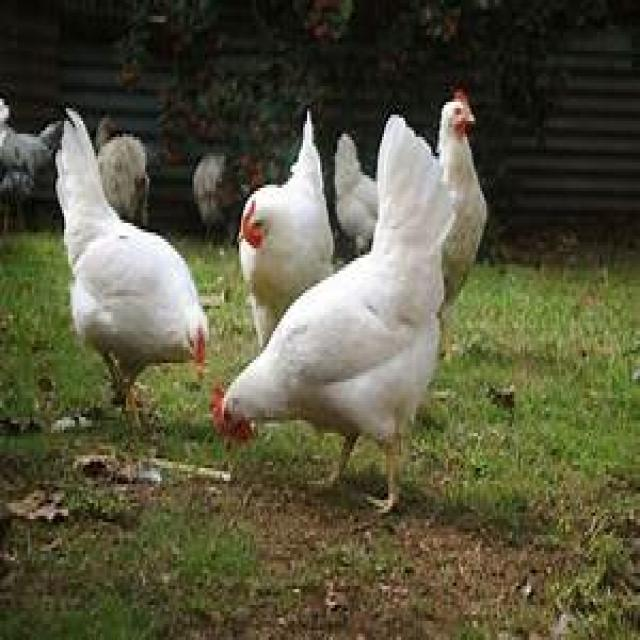hen: (220, 92, 489, 513), (38, 111, 209, 408), (239, 115, 365, 353)
